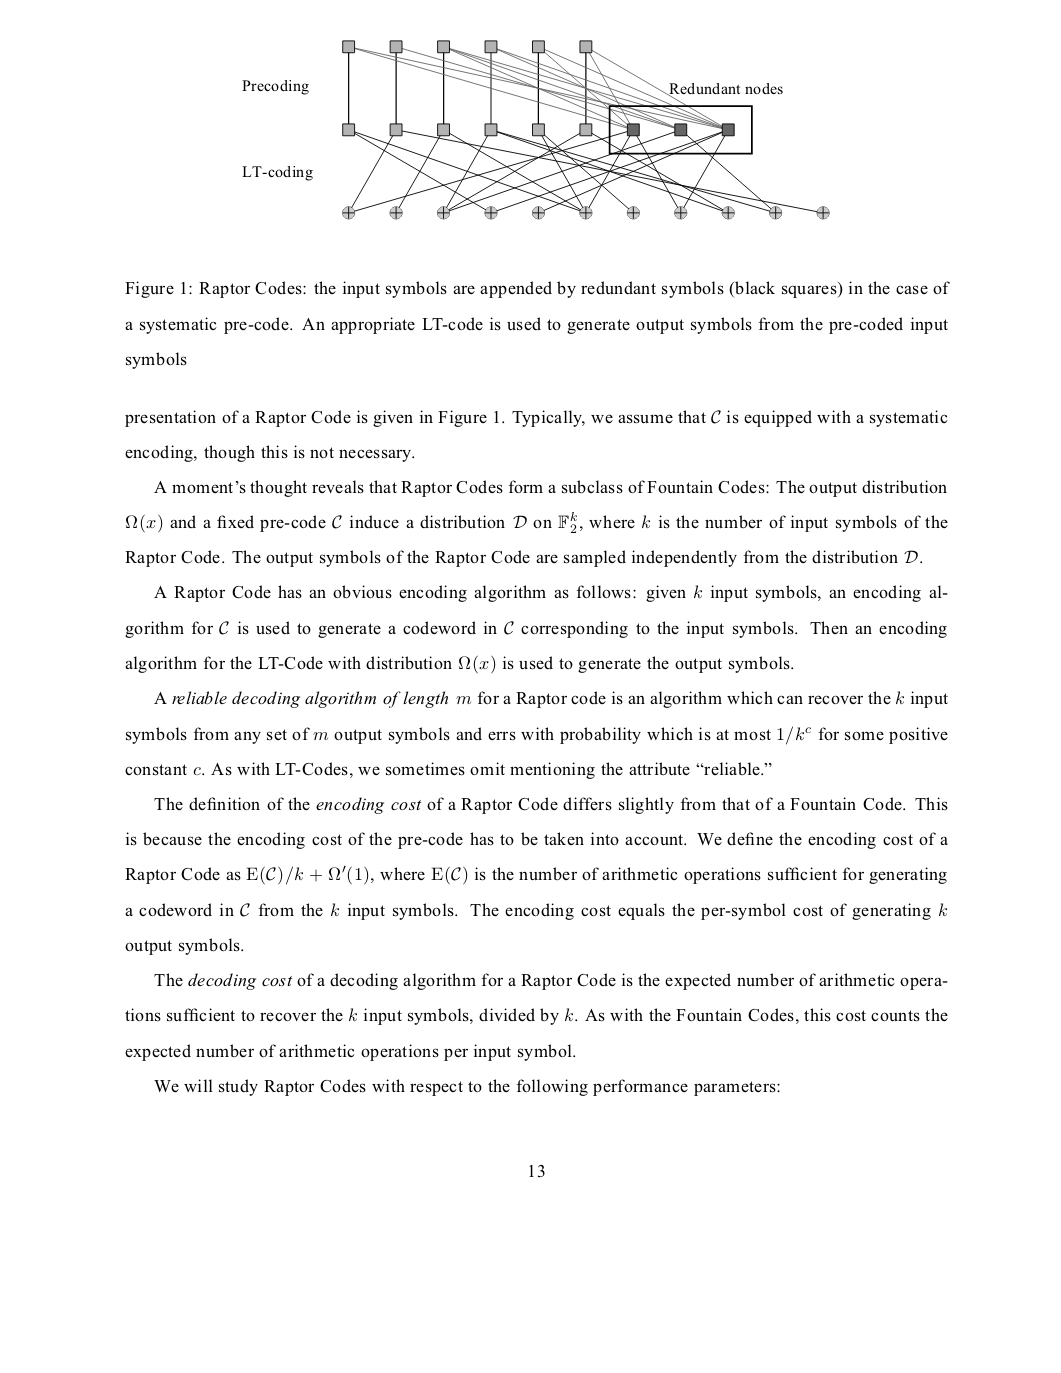figure: (242, 39, 829, 220)
